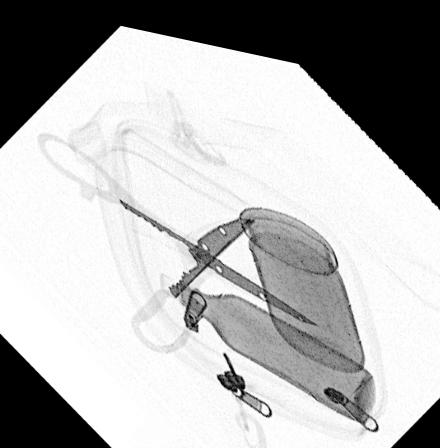Scissors: (33, 127, 318, 345)
